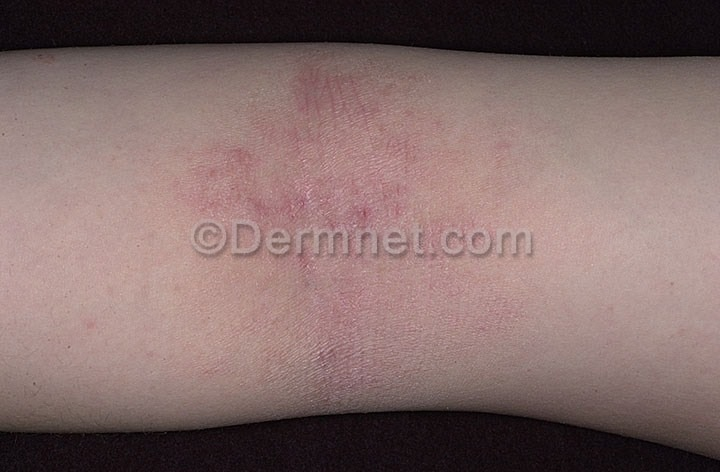Eczema: (176, 47, 594, 412)
